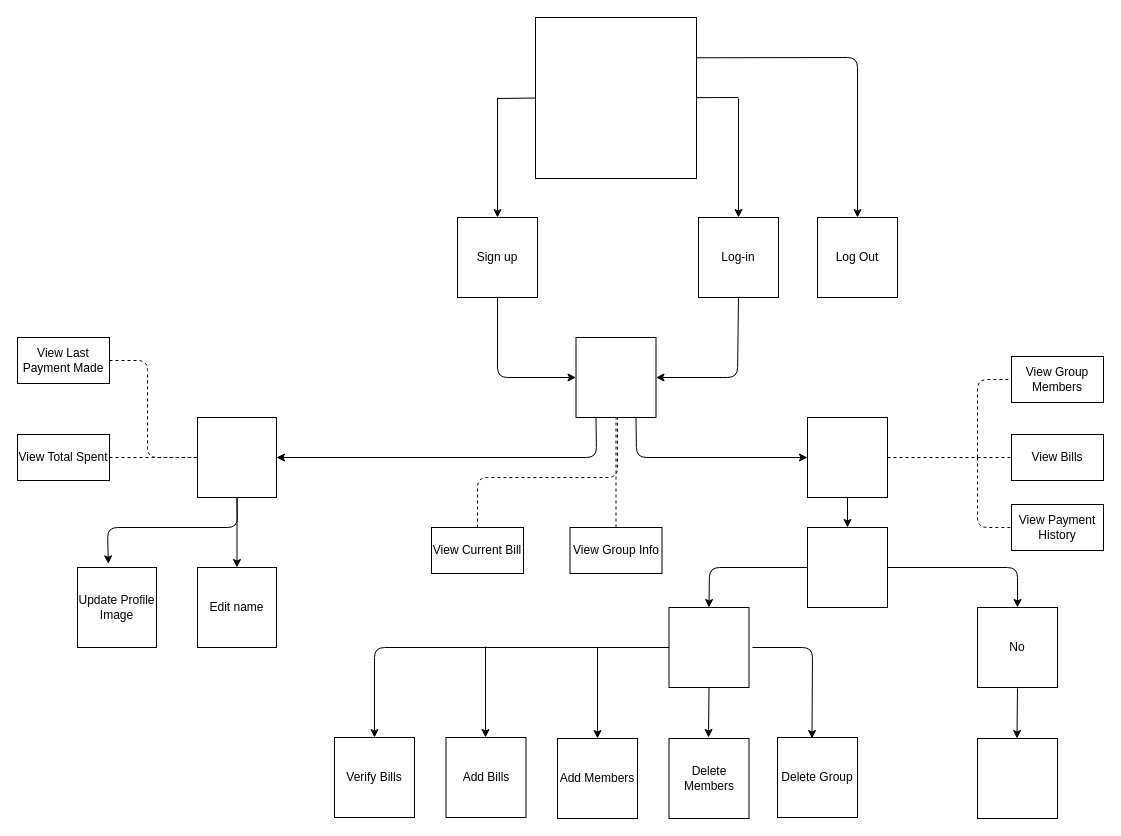
Image size: 1121x836. Some labels were removed from this diagram. The centre of each missing label's shape, as x and y in pixels:
"Create Group" goes at (1017,778).
"Dashboard" goes at (615,377).
"Group Owner?" goes at (847,567).
"My Group" goes at (847,457).
"Profile Page" goes at (236,457).
"Welcome Page" goes at (615,97).
"Yes" goes at (708,647).
